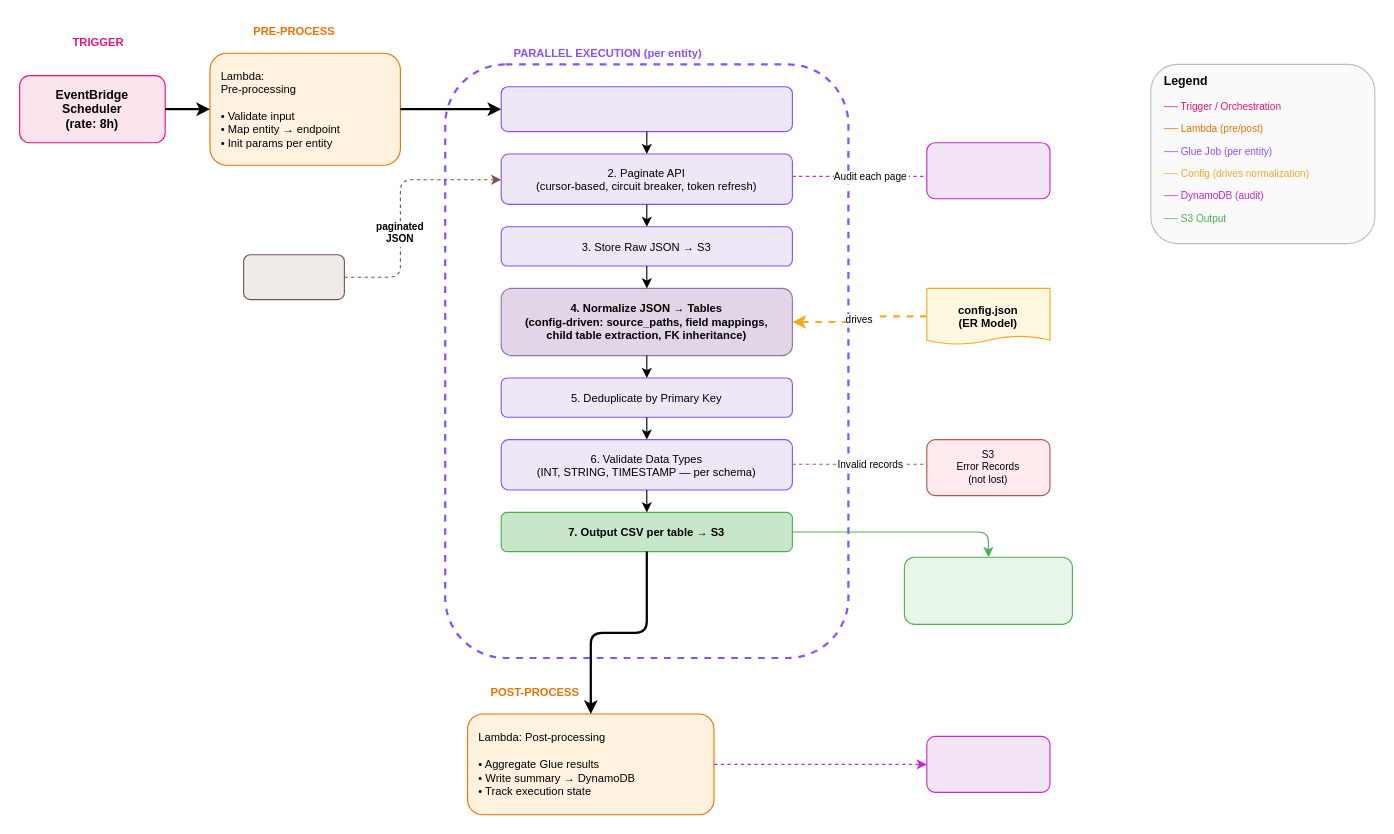
This 1394x834 diagram has some shape labels left out. The shapes that lost their labels are listed below. From the top down, each one's centre as x and y in pixels, then its label:
(x=646, y=109): 1. Authenticate (mTLS + OAuth2)
(x=988, y=170): DynamoDB Detail Table (per page)
(x=293, y=277): External REST API
(x=987, y=590): S3: Normalized CSV (one file per table per entity)
(x=988, y=763): DynamoDB Summary Table (per entity)
